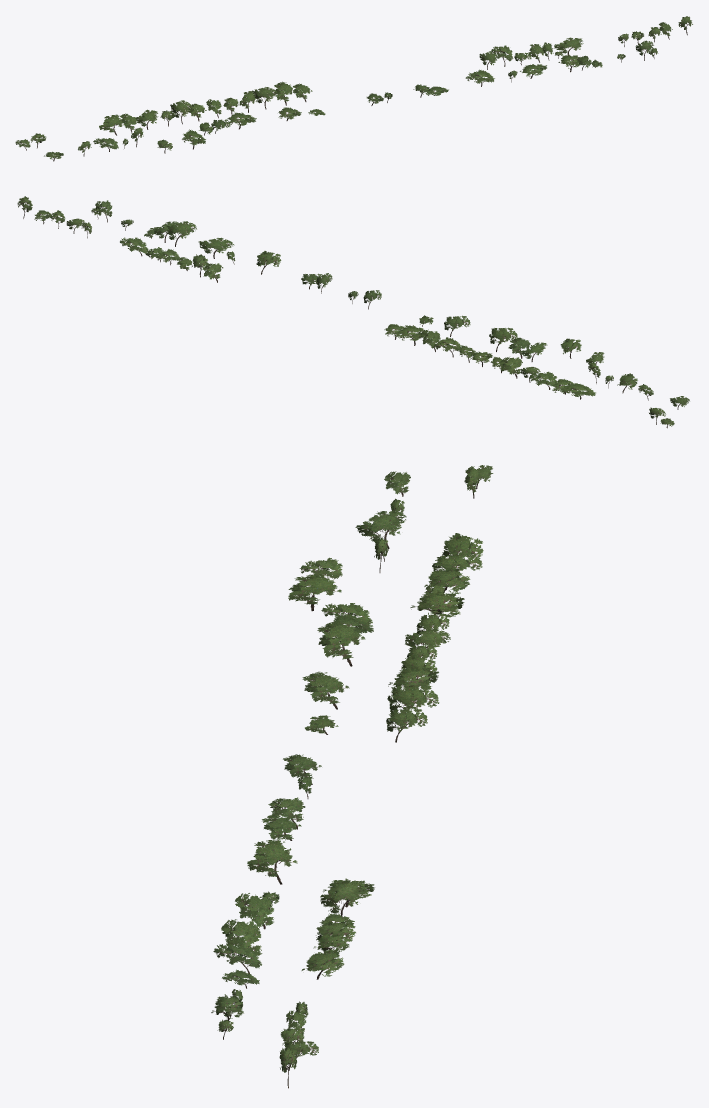
3 renders of one model, top to bottom at view 1: azimuth 30°, elevation 25°; view 2: azimuth 150°, elevation 25°; view 3: azimuth 270°, elevation 25°, orthographic. The views are drawn at different scales.
Parts seen in each view (by area): view 1: Marina Boulevard Sindora crowns, Marina Boulevard Sindora bark; view 2: Marina Boulevard Sindora crowns, Marina Boulevard Sindora bark; view 3: Marina Boulevard Sindora crowns.
Boxes of the visible parts, box(x1,y1,x2,y2) form: Marina Boulevard Sindora crowns: box(15, 16, 692, 159); Marina Boulevard Sindora bark: box(20, 23, 688, 161); Marina Boulevard Sindora crowns: box(17, 196, 689, 426); Marina Boulevard Sindora bark: box(23, 206, 680, 428); Marina Boulevard Sindora crowns: box(211, 465, 493, 1072).
Size of the model in its own units: 492 by 14.3 by 98.67.
Materials: 2 (2 with a texture image).
